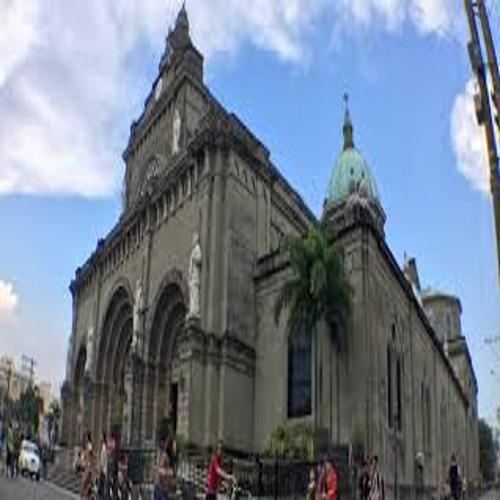Manila Cathedral Church: (44, 4, 493, 500)
